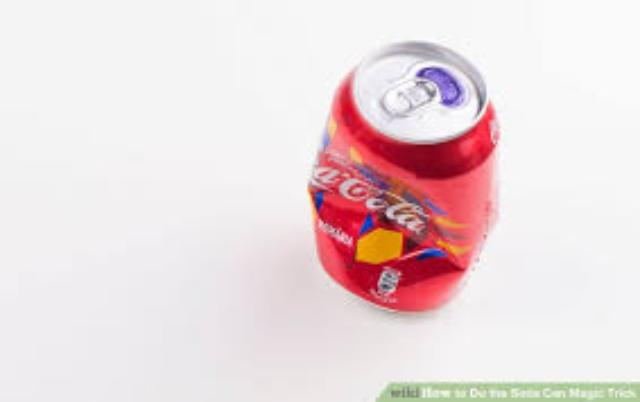metal: (305, 41, 493, 308)
